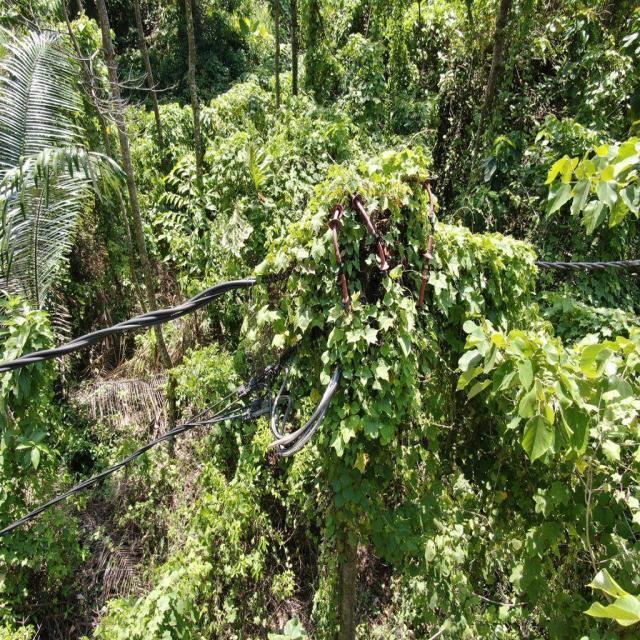critical vegetation: (266, 134, 536, 615)
